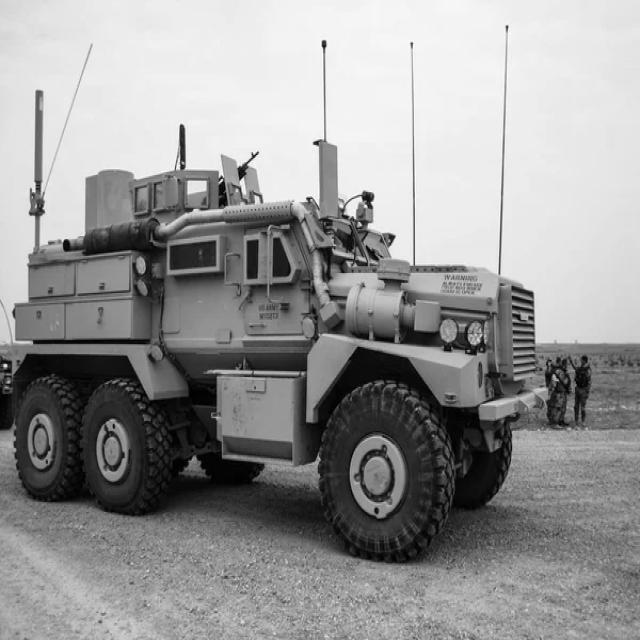Truck: (12, 139, 546, 561)
